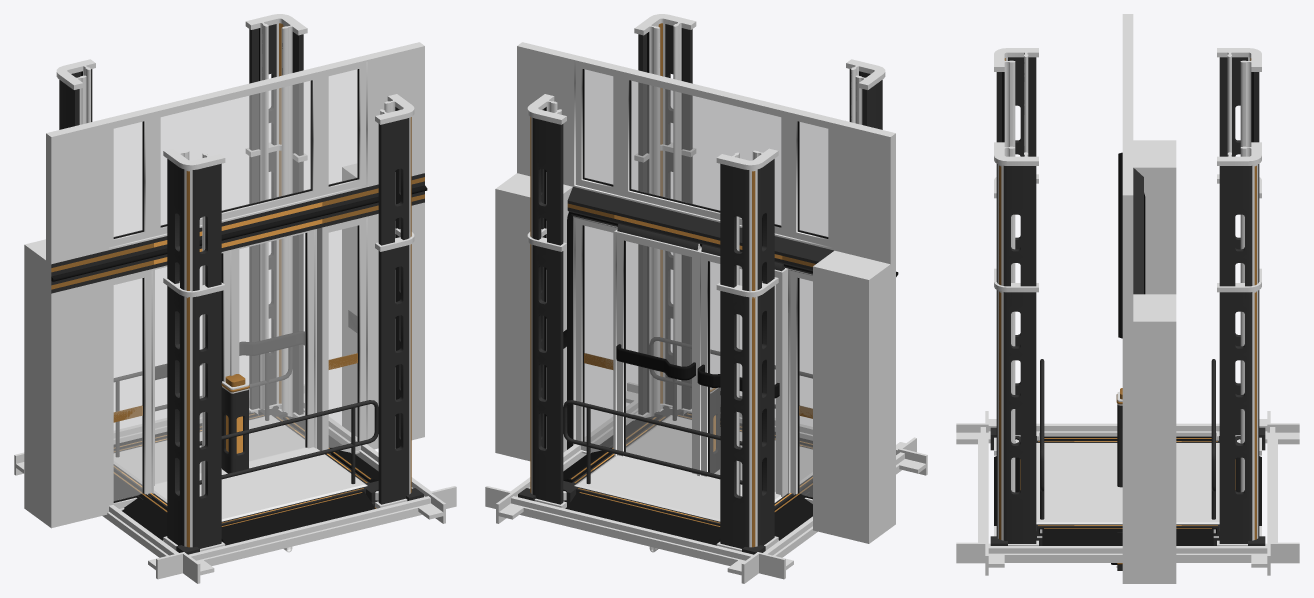
Rendered from functional_elements.dae.
3 renders of one model, left to right at view 1: azimuth 30°, elevation 25°; view 2: azimuth 150°, elevation 25°; view 3: azimuth 270°, elevation 25°, orthographic.
Parts seen in each view (by area): view 1: interaction_door_01a_base, interaction_lift_base_celing, interaction_lift_base, interaction_door_01a_panel_L, interaction_lift_deck, interaction_lift_support, interaction_lift_access_base, interaction_door_01a_panel_R, interaction_lift_deck_rail, interactionbutton_01a; view 2: interaction_door_01a_base, interaction_lift_base_celing, interaction_lift_base, interaction_door_01a_panel_L, interaction_lift_deck, interaction_lift_support, interaction_door_01a_panel_R, interaction_lift_access_base, interaction_lift_deck_rail, interactionbutton_01a; view 3: interaction_door_01a_base, interaction_lift_base_celing, interaction_lift_base, interaction_lift_support, interaction_lift_deck, interaction_lift_access_base, interaction_lift_deck_rail, interactionbutton_01a.
Boxes of the visible parts, box(x1,y1,x2,y2) form: interaction_door_01a_base: box(24, 42, 427, 528); interaction_lift_base_celing: box(163, 142, 414, 551); interaction_lift_base: box(56, 14, 414, 359); interaction_door_01a_panel_L: box(232, 229, 316, 461); interaction_lift_deck: box(113, 405, 378, 525); interaction_lift_support: box(14, 384, 456, 583); interaction_lift_access_base: box(113, 412, 378, 545); interaction_door_01a_panel_R: box(154, 249, 232, 485); interaction_lift_deck_rail: box(113, 347, 378, 495); interactionbutton_01a: box(221, 374, 249, 473); interaction_door_01a_base: box(495, 42, 898, 543); interaction_lift_base_celing: box(527, 142, 778, 551); interaction_lift_base: box(527, 14, 885, 359); interaction_door_01a_panel_L: box(614, 224, 701, 475); interaction_lift_deck: box(563, 405, 812, 525); interaction_lift_support: box(485, 382, 927, 583); interaction_door_01a_panel_R: box(697, 244, 787, 497); interaction_lift_access_base: box(563, 412, 812, 545); interaction_lift_deck_rail: box(563, 337, 812, 495); interactionbutton_01a: box(710, 387, 719, 473); interaction_door_01a_base: box(1118, 14, 1176, 583); interaction_lift_base_celing: box(994, 174, 1261, 545); interaction_lift_base: box(994, 48, 1261, 354); interaction_lift_support: box(956, 411, 1299, 575); interaction_lift_deck: box(1015, 436, 1240, 540); interaction_lift_access_base: box(994, 436, 1261, 545); interaction_lift_deck_rail: box(1040, 359, 1215, 519); interactionbutton_01a: box(1116, 388, 1122, 487).
Size of what is drawn, in the model's own units: 4 by 3.2 by 4.41.
